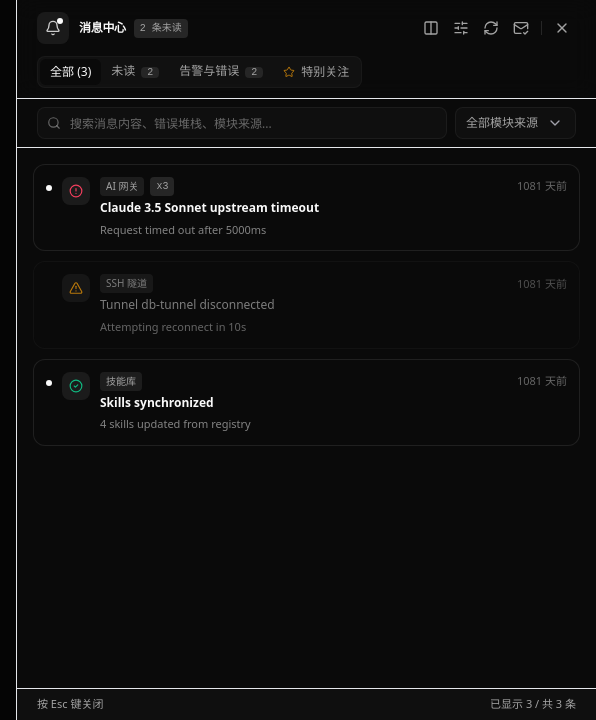
it: src/components/MessageCenter/MessageCenter.tsx › marks all messages as read
Check: the text "Claude 3.5 Sonnet upstream timeout" is shown, box [100,199,319,216]
Click the button titled "全部标为已读".
click(521, 28)  # box [507,14,535,42]
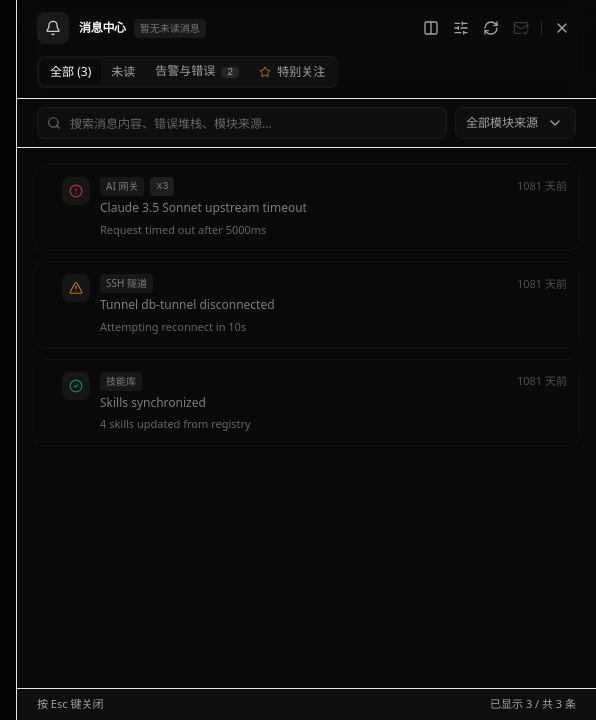
Check: the text "暂无未读消息" is shown, box [134,18,206,38]
